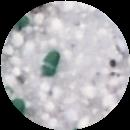Basil: (39, 48, 62, 76)
